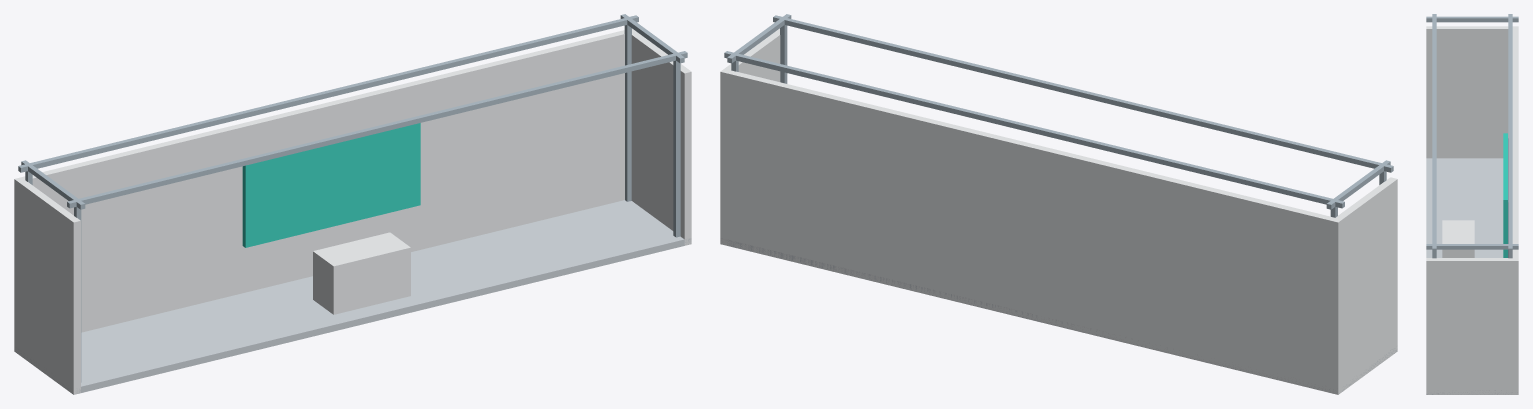
3 renders of one model, left to right at view 1: azimuth 30°, elevation 25°; view 2: azimuth 150°, elevation 25°; view 3: azimuth 270°, elevation 25°, orthographic. The views are drawn at different scales.
Visible parts, largest first — view 1: Exhibition Booth Concept; view 2: Exhibition Booth Concept; view 3: Exhibition Booth Concept.
Part boxes in pixels (<box>): Exhibition Booth Concept: <box>14,14,691,394</box>; Exhibition Booth Concept: <box>720,14,1397,394</box>; Exhibition Booth Concept: <box>1426,14,1518,394</box>.
Bounding box in the file's own units: 12 × 3.49 × 2.
